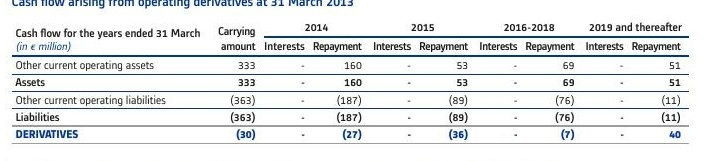table: (0, 0, 719, 161)
